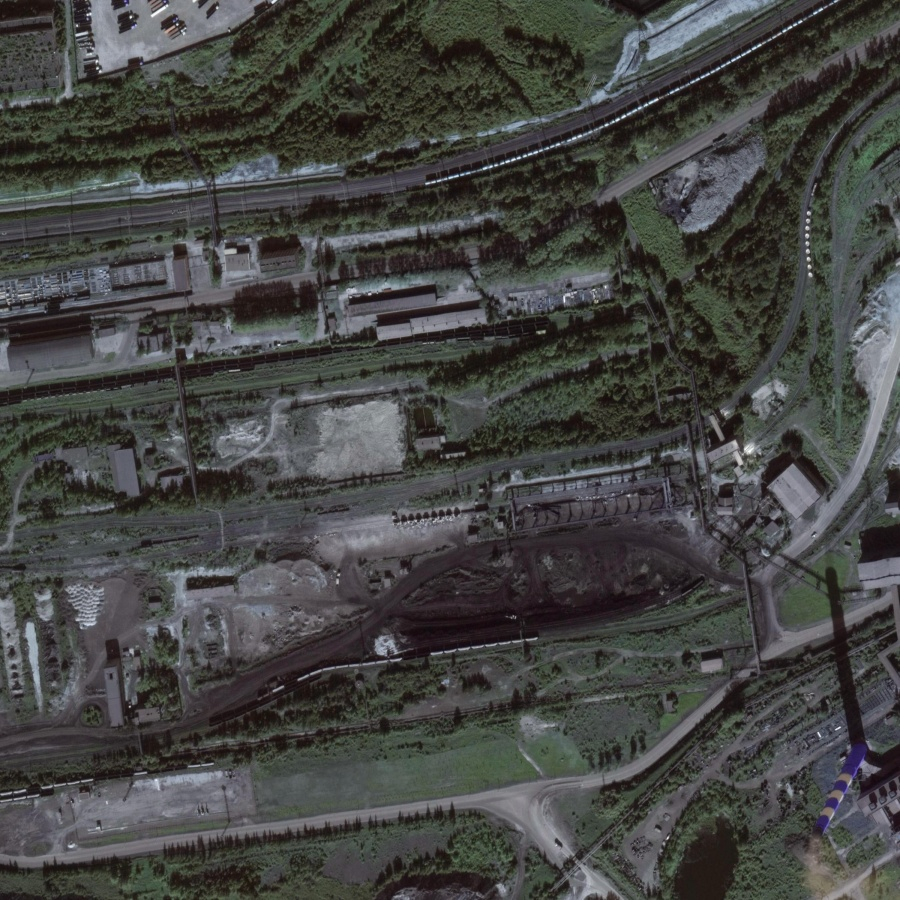PowerPlant: (273, 502, 713, 667)
